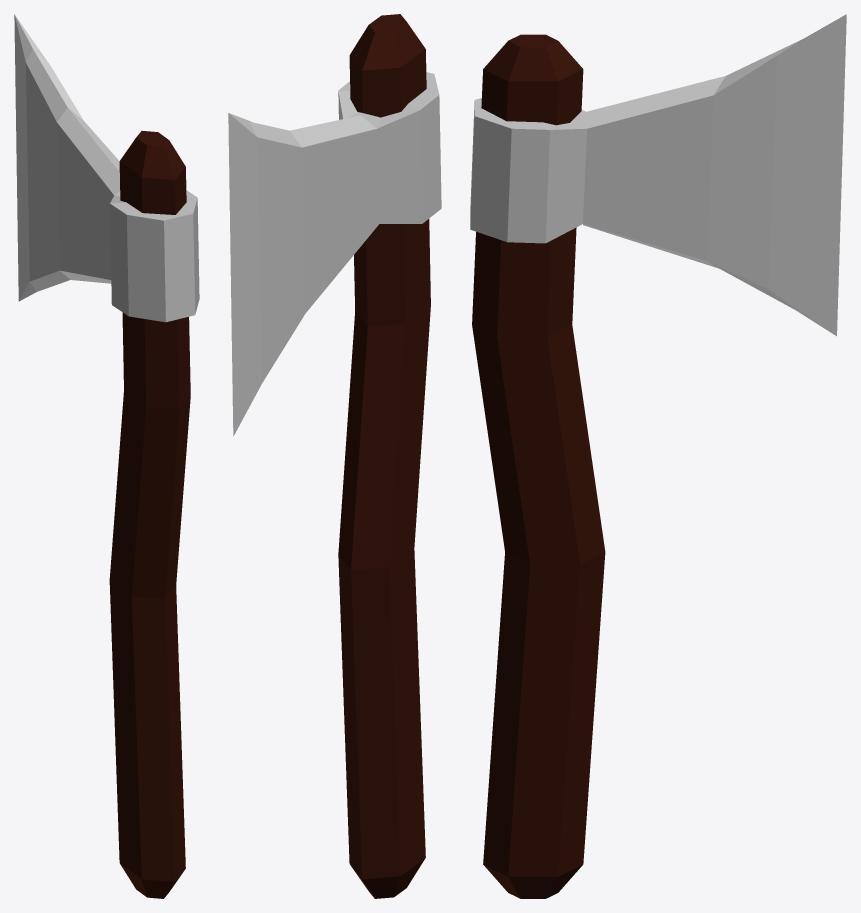
Rendered from axeexample.obj.
3 views of the same model, side by side, from view 1: azimuth 30°, elevation 25°; view 2: azimuth 150°, elevation 25°; view 3: azimuth 270°, elevation 25° (orthographic). The views are drawn at different scales.
Parts seen in each view (by area): view 1: lever, tip; view 2: lever, tip; view 3: lever, tip.
Part boxes in pixels (x1,y1,x2,y2): lever: (109,131,190,898); tip: (14,14,199,322); lever: (338,14,430,898); tip: (228,72,441,436); lever: (472,34,605,898); tip: (470,14,846,336).
Bounding box in the file's own units: 0.0924 × 0.9669 × 0.3755.
